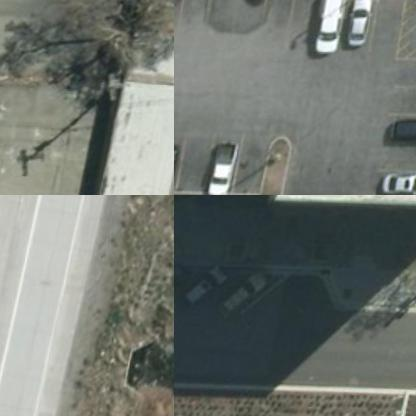car: (204, 266, 269, 331), (174, 257, 235, 323), (300, 0, 351, 64), (201, 140, 242, 194), (340, 5, 376, 60), (174, 255, 195, 319), (382, 120, 415, 159), (378, 171, 415, 194), (174, 145, 183, 194)
